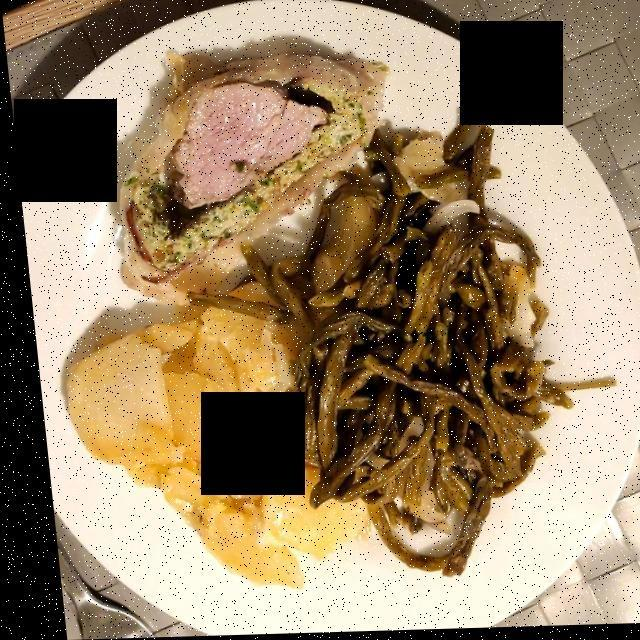green-bean: (178, 128, 616, 585)
pastry: (98, 51, 388, 315), (126, 82, 367, 273)
potatoes: (51, 298, 370, 603)
